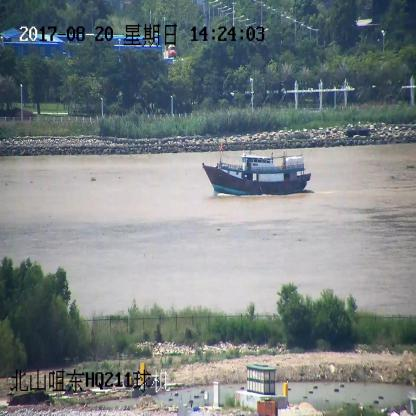Fishing Boat: (202, 150, 312, 198)
